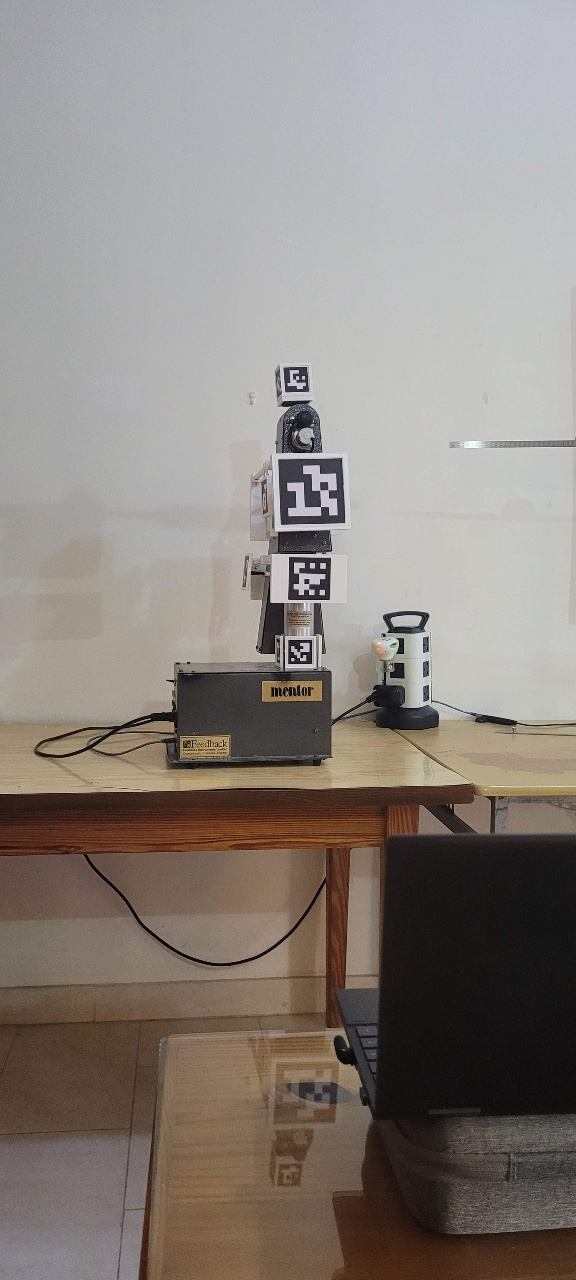Robot: (238, 362, 356, 677)
